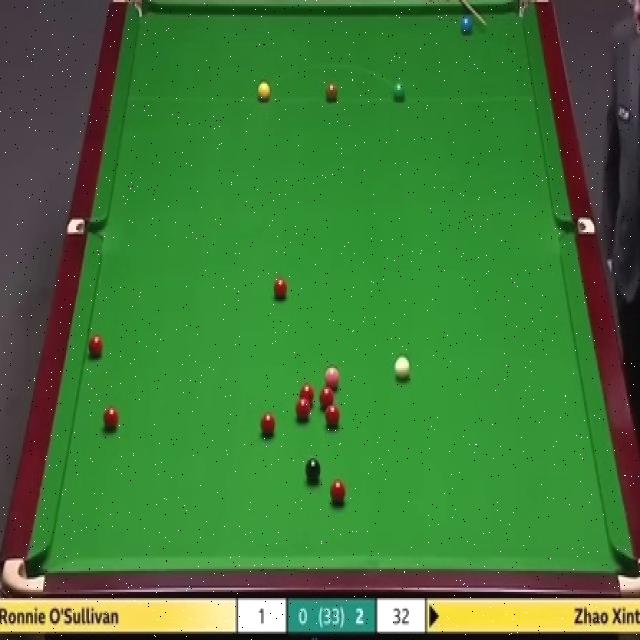black-ball: (305, 456, 323, 486)
blue-ball: (458, 11, 474, 36)
brown-ball: (325, 82, 339, 104)
green-ball: (392, 82, 406, 104)
pink-ball: (322, 365, 341, 390)
red-ball: (102, 405, 120, 434), (294, 398, 312, 423), (329, 479, 347, 504), (272, 276, 290, 301), (87, 334, 103, 359), (325, 403, 340, 428), (298, 384, 315, 406), (261, 412, 275, 438), (318, 387, 335, 408)
white-ball: (394, 353, 412, 382)
yellow-ball: (257, 81, 271, 103)
